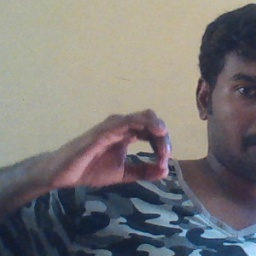O: (53, 105, 173, 193)
